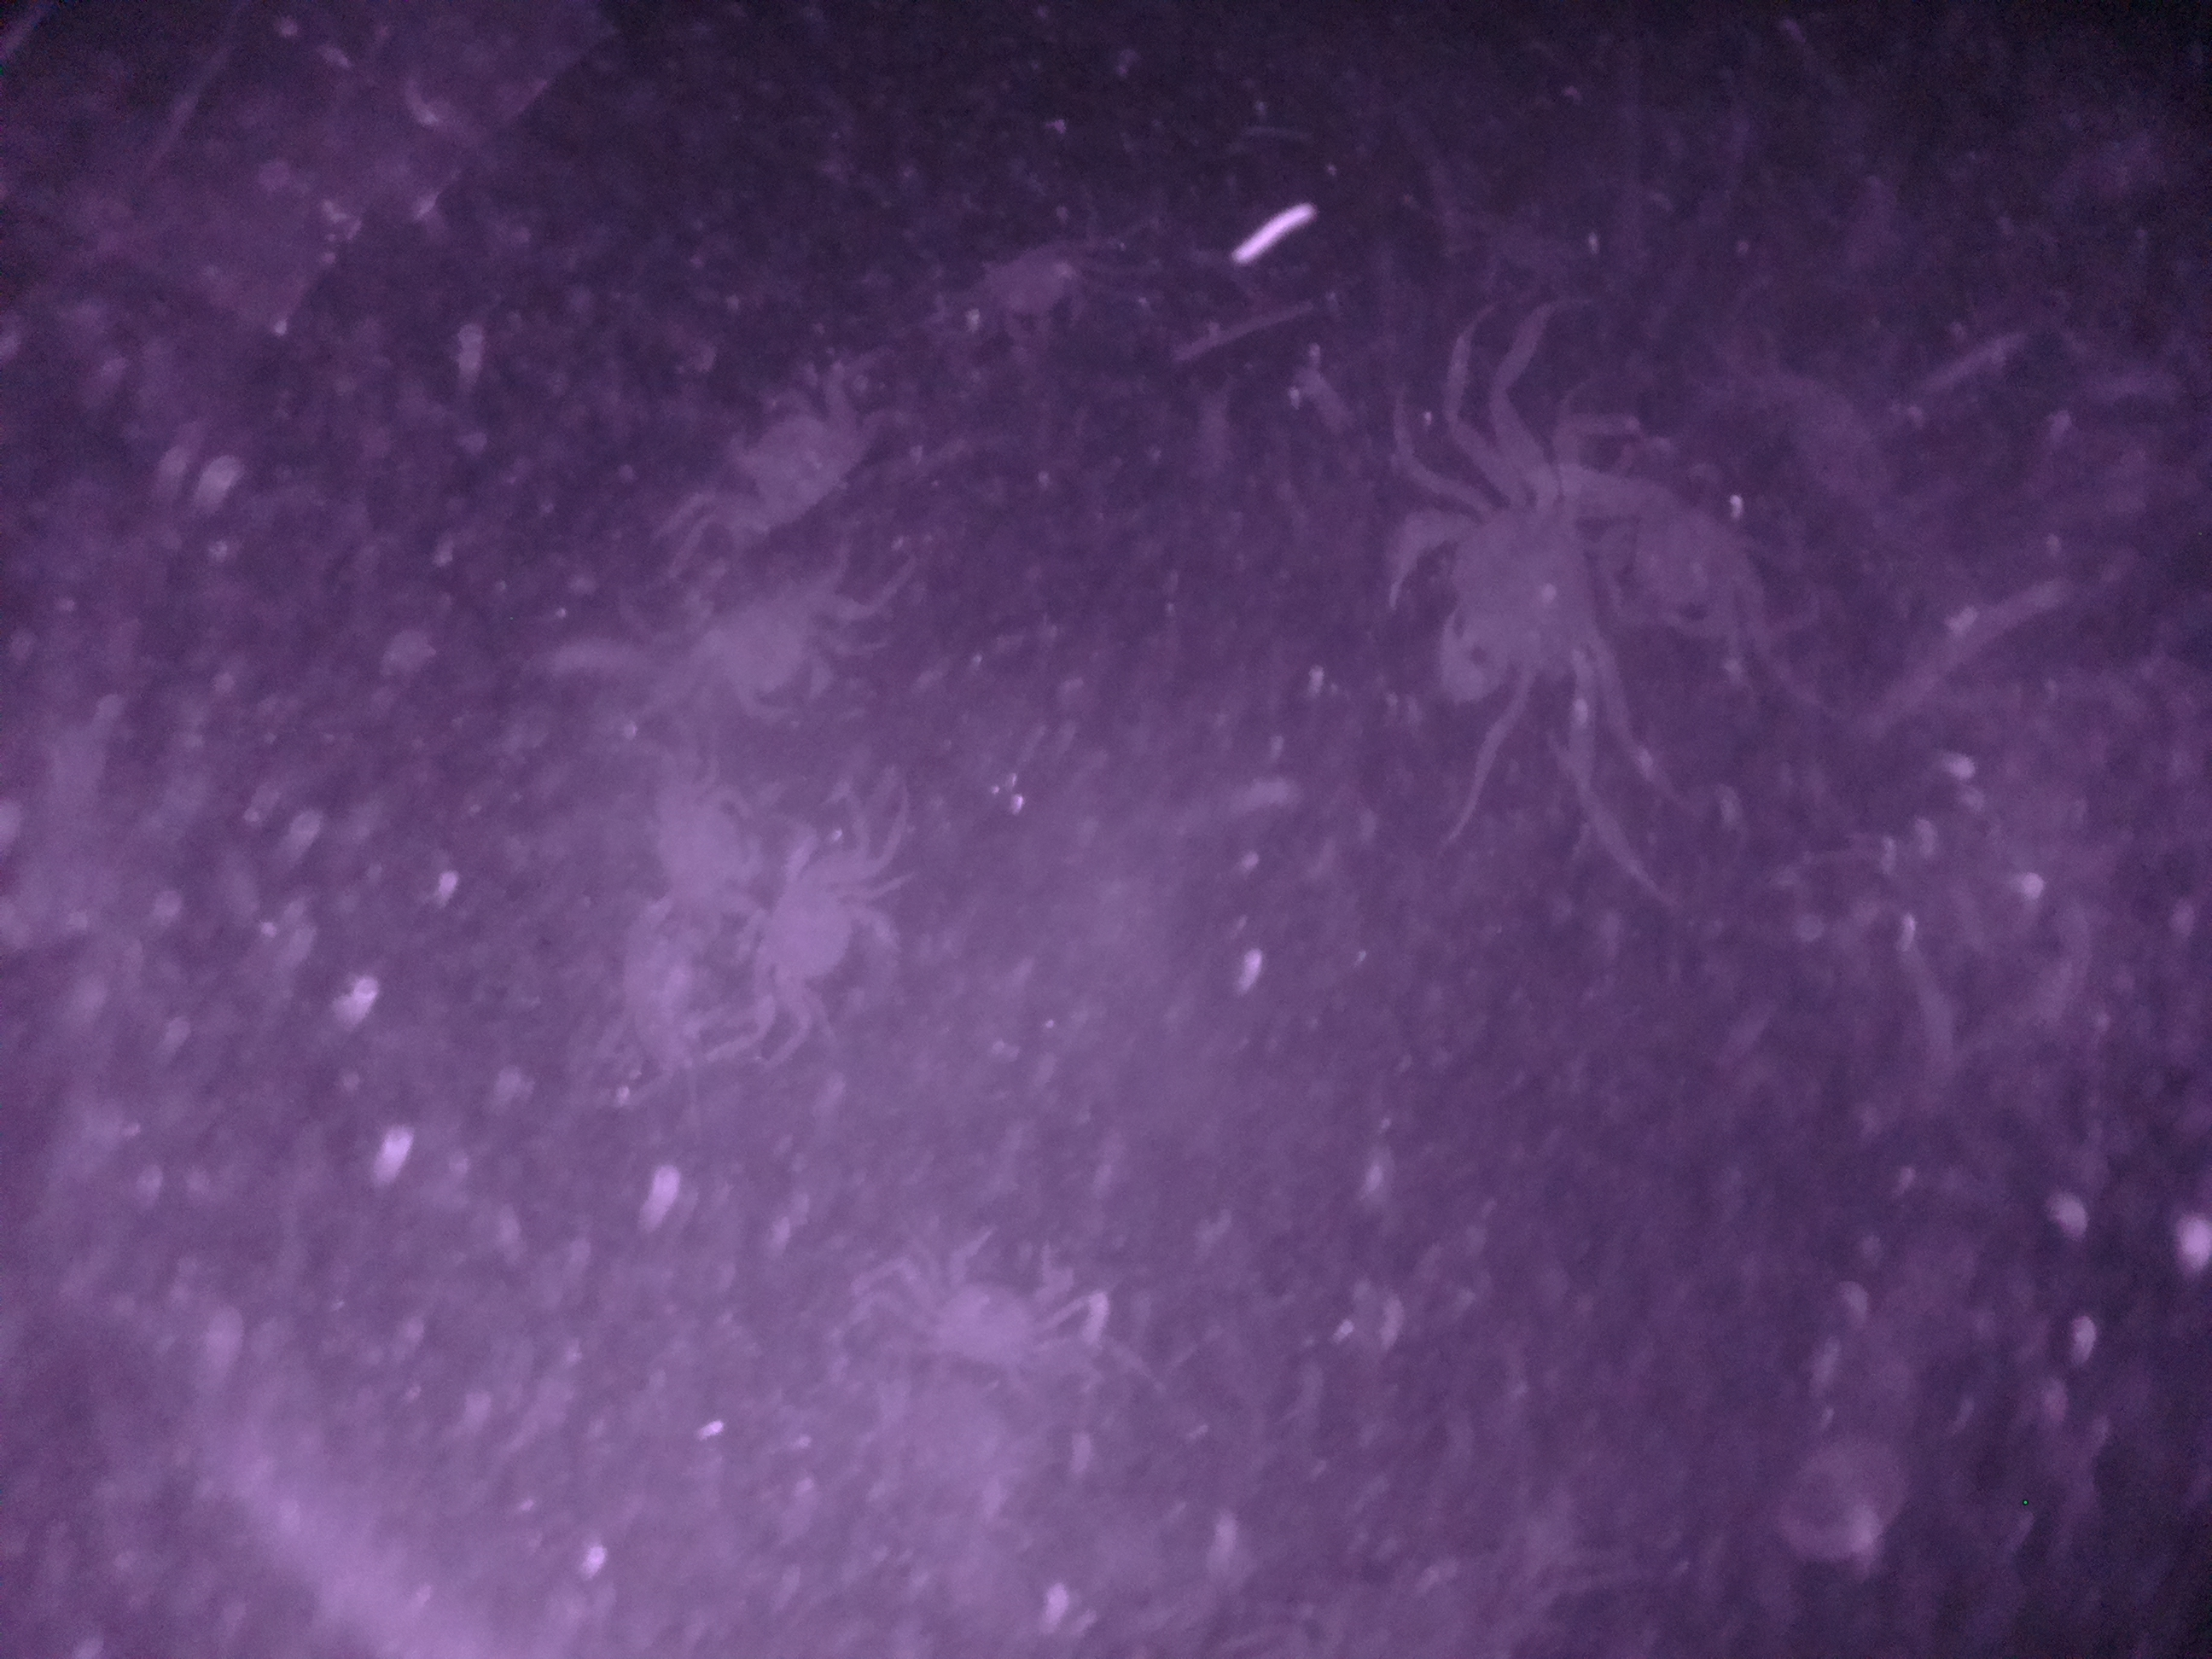Crab: (1374, 450, 1604, 728), (719, 819, 923, 1033), (671, 554, 885, 744), (899, 1206, 1118, 1385), (688, 371, 867, 556)
